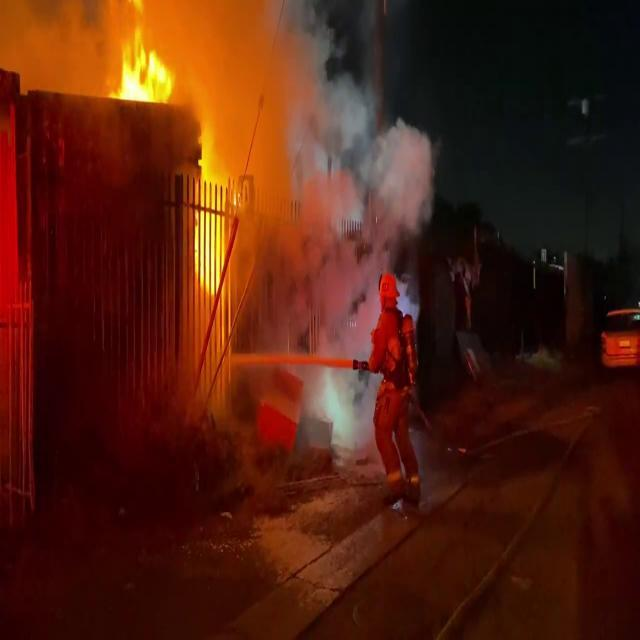Fire: (105, 8, 177, 116), (192, 120, 232, 302)
Smoke: (174, 1, 437, 455)
